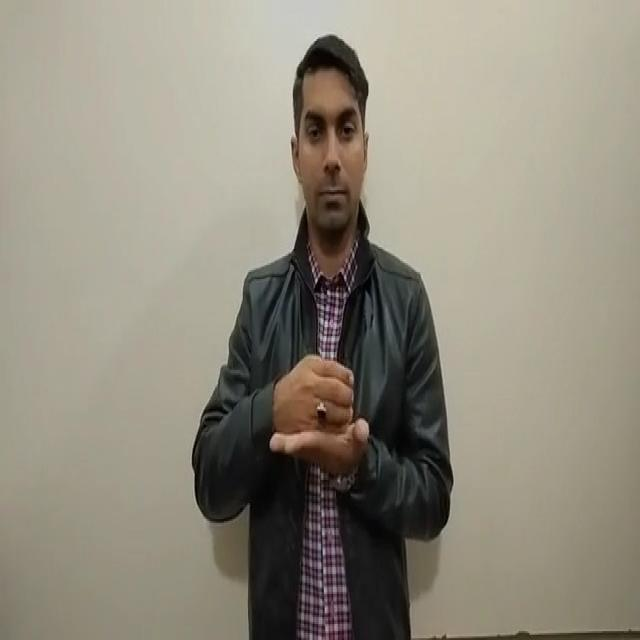cup: (258, 338, 378, 478)
